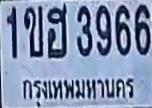1: (6, 7, 19, 60)
3: (76, 5, 91, 55)
6: (134, 3, 150, 54), (114, 4, 130, 55)
9: (95, 4, 111, 55)
A02: (23, 5, 42, 56)
A44: (47, 5, 66, 57)
BKK: (19, 75, 135, 108)
